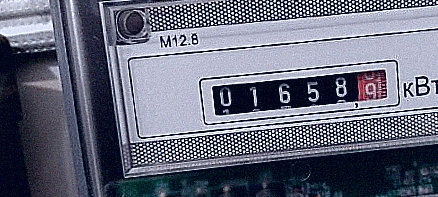0: (217, 84, 232, 107)
1: (247, 84, 260, 107)
5: (304, 78, 320, 102)
6: (275, 80, 291, 104)
8: (332, 74, 348, 97)
9: (360, 79, 377, 102)
screen: (191, 49, 409, 133)
